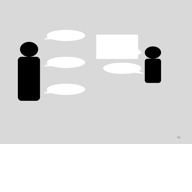left_speech: (42, 26, 86, 44), (41, 81, 87, 97), (43, 54, 86, 70)
right_oneway: (93, 30, 142, 61)
right_speech: (100, 61, 143, 77)
